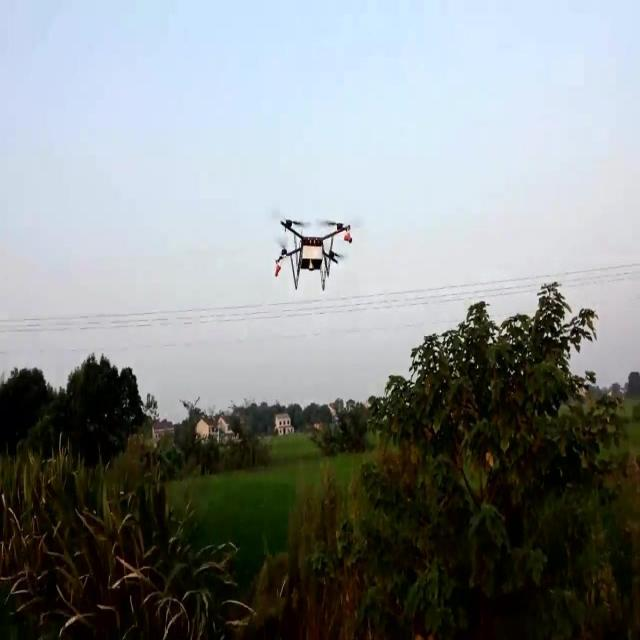UAV: (275, 215, 353, 292)
